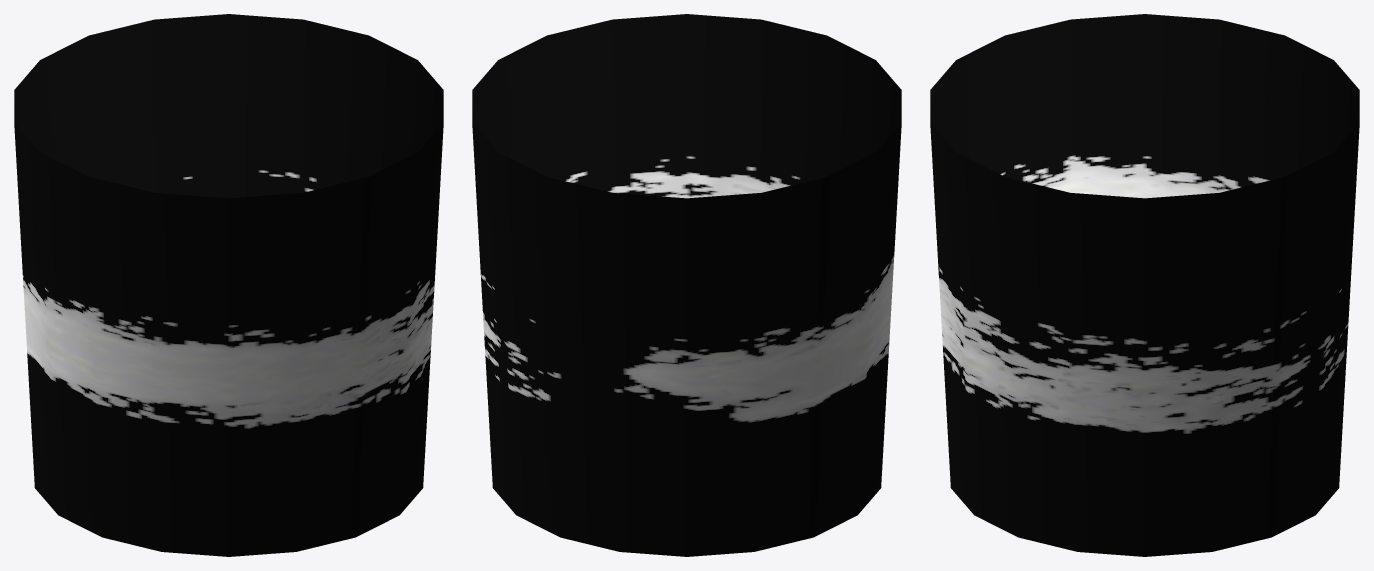
3 views of the same model, side by side, from view 1: azimuth 30°, elevation 25°; view 2: azimuth 150°, elevation 25°; view 3: azimuth 270°, elevation 25° (orthographic).
Visible parts, largest first — view 1: XF_08; view 2: XF_08; view 3: XF_08.
Part boxes in pixels (x1,y1,x2,y2): XF_08: (14, 14, 443, 556); XF_08: (472, 14, 901, 556); XF_08: (930, 14, 1359, 556).
Bounding box in the file's own units: 0.3937 × 0.3659 × 0.3877.
Materials: 1 (1 with a texture image).
